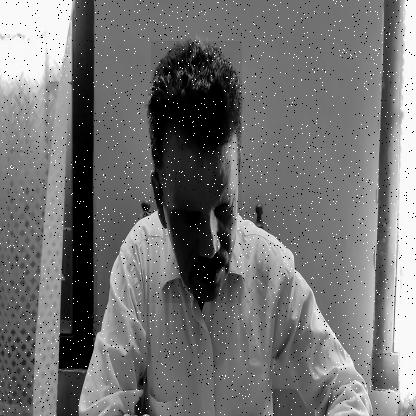Normal: (151, 42, 242, 304)
